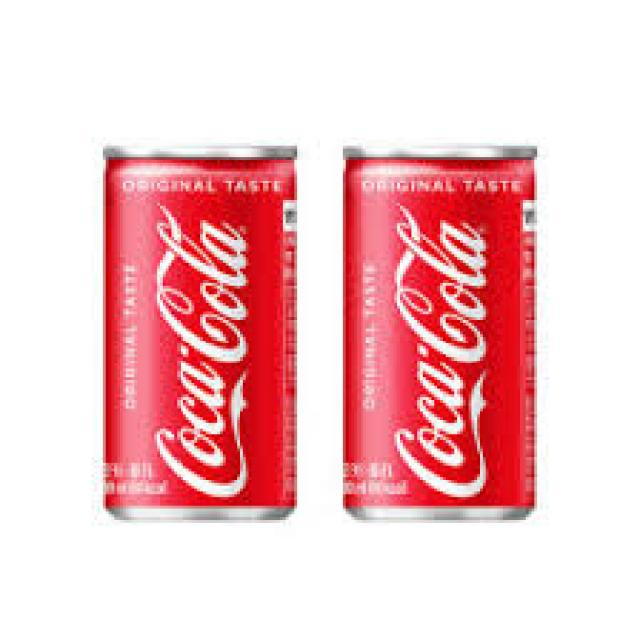Coca-Cola: (329, 129, 546, 529), (90, 126, 305, 527)
